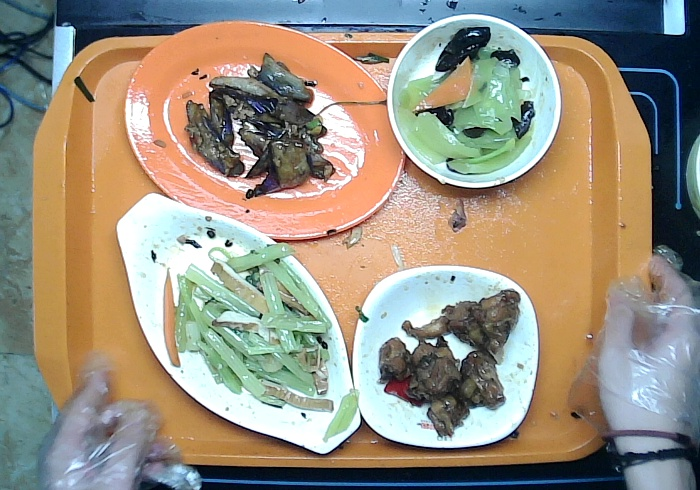NLDX-Bai_Se_Xiao_Fang_Die: (343, 261, 546, 455)
NLDX-Fan_Wan: (384, 9, 566, 189)
NLDX-Ju_Se_Pan: (120, 18, 414, 245)
NLDX-Yu_Pan: (108, 190, 366, 456)
